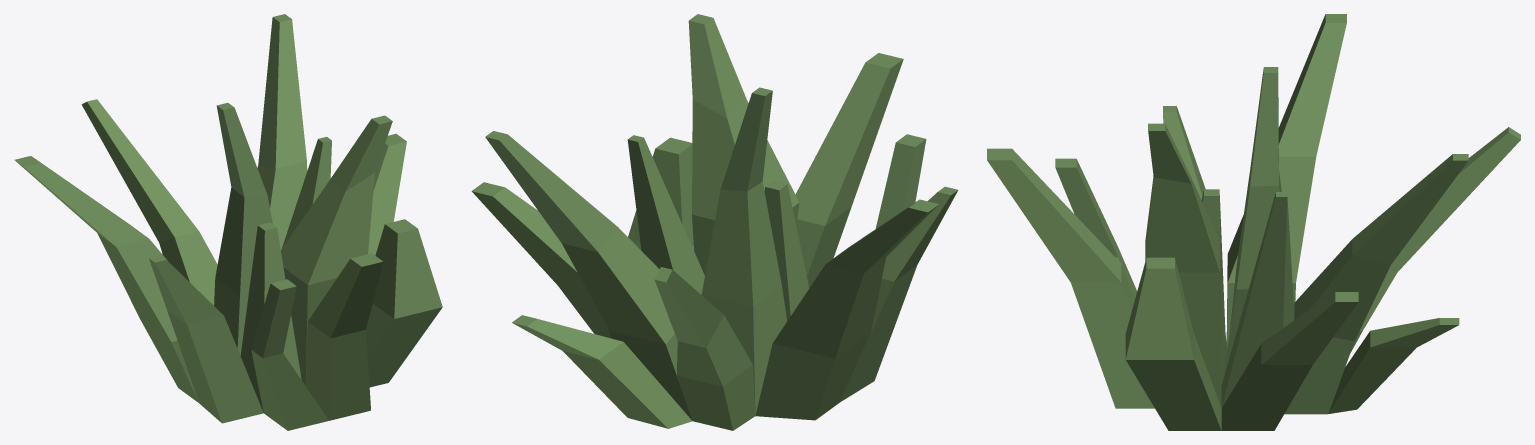
Rendered from Herbe2.fbx.
3 renders of one model, left to right at view 1: azimuth 30°, elevation 25°; view 2: azimuth 150°, elevation 25°; view 3: azimuth 270°, elevation 25°, orthographic. The views are drawn at different scales.
Parts seen in each view (by area): view 1: Grass2; view 2: Grass2; view 3: Grass2.
Part boxes in pixels (x1,y1,x2,y2): Grass2: [14, 14, 442, 430]; Grass2: [471, 14, 958, 430]; Grass2: [987, 14, 1520, 430].
Size of the model in its own units: 244 by 163 by 265.
